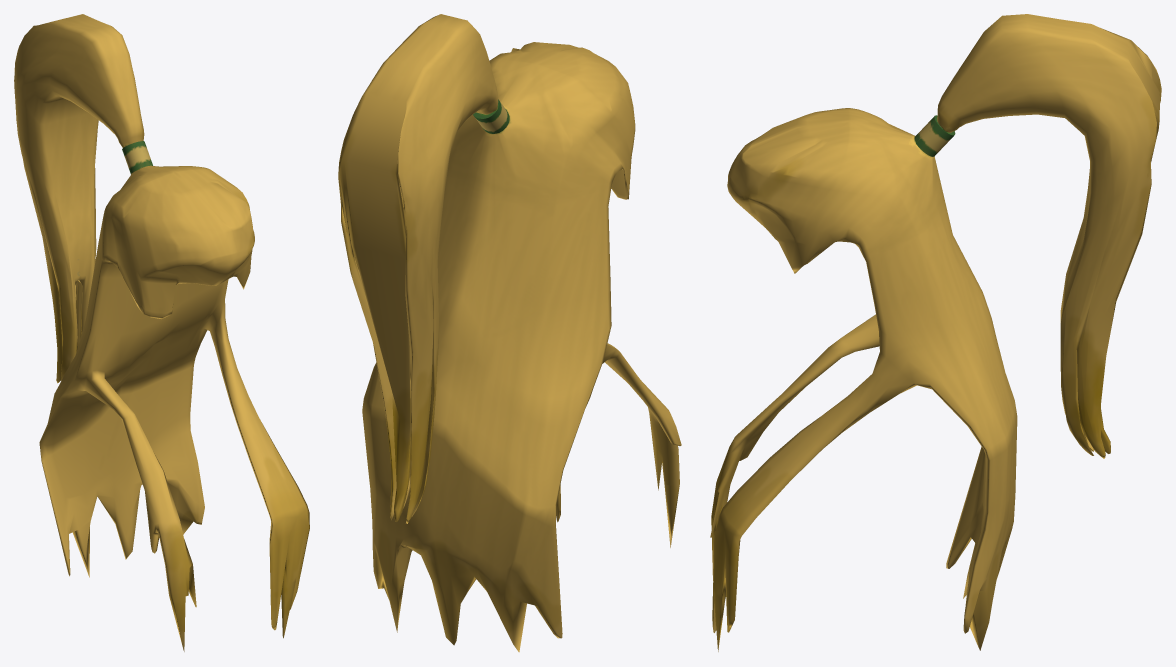
The model's file is hair 7.fbx.
The picture shows the model from 3 angles, left to right: view 1: azimuth 30°, elevation 25°; view 2: azimuth 150°, elevation 25°; view 3: azimuth 270°, elevation 25°; orthographic projection. The views are drawn at different scales.
Parts seen in each view (by area): view 1: pasted__pSphere16; view 2: pasted__pSphere16; view 3: pasted__pSphere16.
Part boxes in pixels (bbox=[...]): pasted__pSphere16: bbox=[14, 14, 309, 651]; pasted__pSphere16: bbox=[338, 14, 681, 652]; pasted__pSphere16: bbox=[710, 14, 1161, 651].
Size of the model in its own units: 1.43 by 4.37 by 2.96.
1 material, 1 textured.
